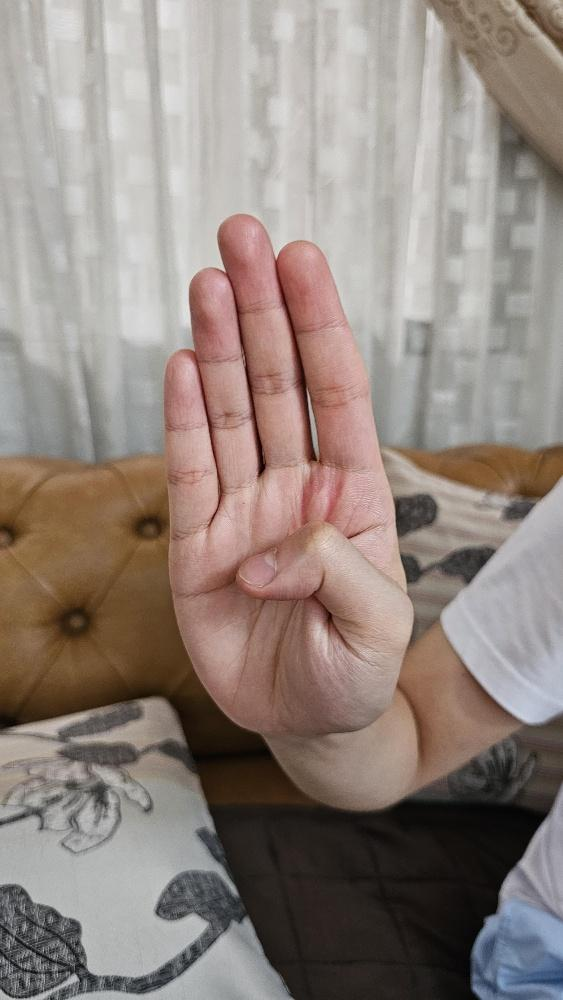b: (160, 209, 416, 735)
